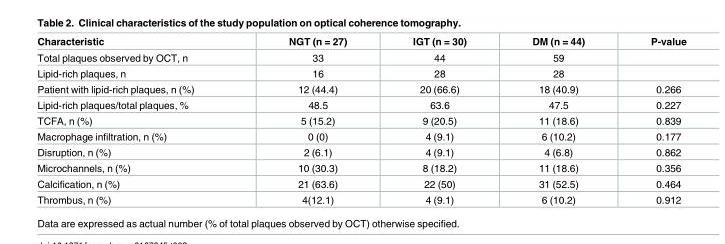table: (36, 36, 685, 204)
table column: (36, 36, 240, 204), (240, 36, 379, 204), (379, 36, 498, 204), (498, 36, 617, 204), (617, 36, 685, 204)
table column header: (36, 36, 685, 49)
table row: (36, 49, 685, 65), (36, 65, 685, 81), (36, 81, 685, 97), (36, 97, 685, 113), (36, 128, 685, 144), (36, 144, 685, 160), (36, 160, 685, 176), (36, 113, 685, 128), (36, 176, 685, 191), (36, 36, 685, 49), (36, 191, 685, 204)
